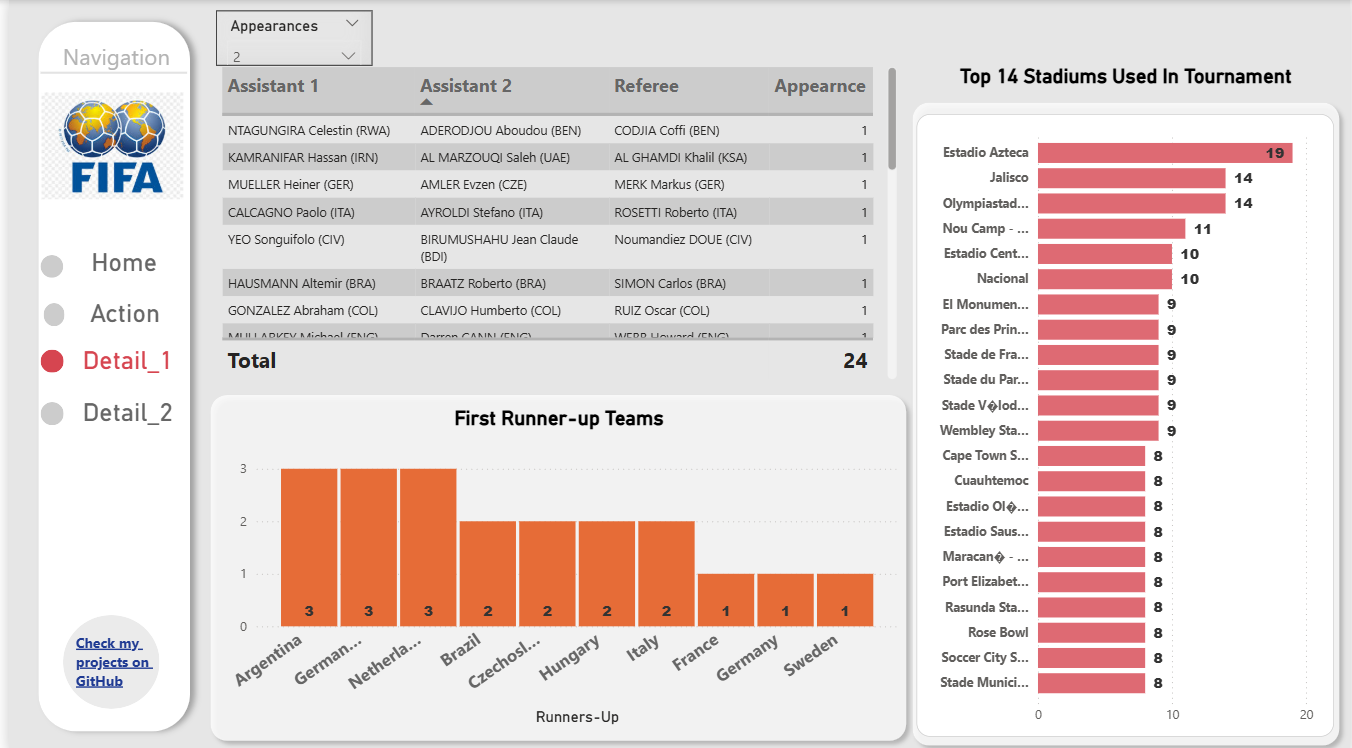

The dashboard page shown, as its layout file describes it:
{"tool":"powerbi","page":{"name":"Details_1","canvas":[1280,720],"ordinal":2},"visuals":[{"type":"shape","box":[16.5,9.6,166.5,699.2],"z":0},{"type":"shape","box":[32.4,289.7,20.3,22.3],"z":0,"group":"g3"},{"type":"tableEx","fields":{"Values":["WorldCupMatches.Assistant 1","WorldCupMatches.Assistant 2","WorldCupMatches.Referee","All Measures (2).official_appearnce"]},"box":[197.2,58.9,655.3,308.6],"z":1000},{"type":"actionButton","title":"Action","box":[52.7,285.6,115.4,48.6],"z":1000,"group":"g3"},{"type":"actionButton","title":"Detail_1","box":[58.7,330.1,109.4,62.8],"z":2000},{"type":"actionButton","title":"Detail_2","box":[59.2,379.5,109.4,62.8],"z":2000,"group":"g4"},{"type":"slicer","fields":{"Values":["Appearances 2.Appearances"]},"box":[197.2,9.5,149.5,52.5],"z":3000},{"type":"shape","box":[30.8,383.6,22.3,22.3],"z":3000,"group":"g4"},{"type":"shape","title":"Top 14 Stadiums Used In Tournament","box":[853.8,61.5,425.6,659],"z":4000,"group":"g1"},{"type":"shape","box":[30.4,334.2,22.3,22.3],"z":4000},{"type":"group","id":"g1","title":"Group 2","box":[853.8,61.5,425.6,659],"z":5000},{"type":"group","id":"g2","title":"Group 1","box":[182.9,367.4,682.4,348.3],"z":6000},{"type":"shape","box":[30.2,243.7,21.8,21.8],"z":7000},{"type":"actionButton","title":"Home","box":[52,237,117.2,55.2],"z":8000},{"type":"textbox","box":[36.9,33,130.5,51.4],"z":9000},{"type":"shape","box":[182.9,367.4,682.4,348.3],"z":10000,"group":"g2"},{"type":"shape","box":[51.4,586.8,92.3,89.7],"z":10000},{"type":"shape","box":[30.2,61.6,140.1,15.7],"z":11000},{"type":"image","box":[25.1,72,145.6,135.6],"z":12000},{"type":"clusteredBarChart","fields":{"Category":["WorldCupMatches.Stadium"],"Y":["CountNonNull(WorldCupMatches.Stadium)"]},"box":[866.5,108.3,398.7,595],"z":12000,"group":"g1"},{"type":"group","id":"g3","title":"Group 3","box":[32.4,285.6,135.7,48.6],"z":13000},{"type":"group","id":"g4","title":"Group 2","box":[30.8,379.5,137.7,62.8],"z":14000},{"type":"columnChart","title":"First Runner-up Teams","fields":{"Category":["WorldCups.Runners-Up"],"Y":["CountNonNull(WorldCups.Runners-Up)"]},"box":[197.2,388.1,655.3,308.6],"z":14000,"group":"g2"},{"type":"textbox","box":[58.6,598.6,84.3,65.7],"z":14001}]}

Visuals, with their boxes in screenshot pixels (x1, y1, x2, y2), scaled from the page's 1280x720 canvas onto the 1352x748 screenshot:
shape: l=17, t=10, r=193, b=736
shape: l=34, t=301, r=56, b=324
tableEx - WorldCupMatches.Assistant 1 x WorldCupMatches.Assistant 2: l=208, t=61, r=900, b=382
"Action" actionButton: l=56, t=297, r=178, b=347
"Detail_1" actionButton: l=62, t=343, r=178, b=408
"Detail_2" actionButton: l=63, t=394, r=178, b=460
slicer - Appearances 2.Appearances: l=208, t=10, r=366, b=64
shape: l=33, t=399, r=56, b=422
"Top 14 Stadiums Used In Tournament" shape: l=902, t=64, r=1351, b=747
shape: l=32, t=347, r=56, b=370
"Group 2" group: l=902, t=64, r=1351, b=747
"Group 1" group: l=193, t=382, r=914, b=744
shape: l=32, t=253, r=55, b=276
"Home" actionButton: l=55, t=246, r=179, b=304
textbox: l=39, t=34, r=177, b=88
shape: l=193, t=382, r=914, b=744
shape: l=54, t=610, r=152, b=703
shape: l=32, t=64, r=180, b=80
image: l=27, t=75, r=180, b=216
clusteredBarChart - WorldCupMatches.Stadium x CountNonNull(WorldCupMatches.Stadium): l=915, t=113, r=1336, b=731
"Group 3" group: l=34, t=297, r=178, b=347
"Group 2" group: l=33, t=394, r=178, b=460
"First Runner-up Teams" columnChart: l=208, t=403, r=900, b=724
textbox: l=62, t=622, r=151, b=690
